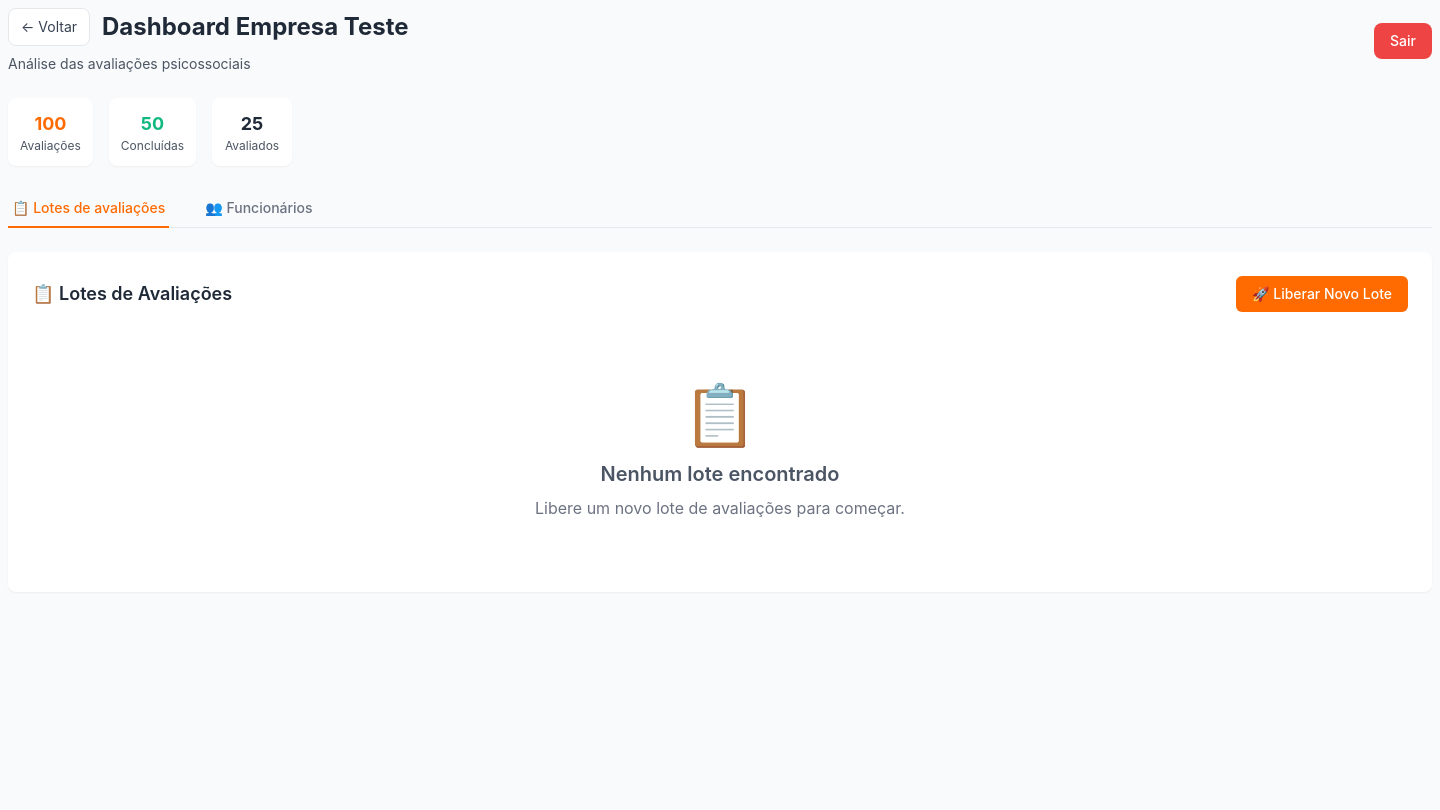
Test: Interface Melhorada - Dashboard Empresa › Interação com Upload e Inserção › deve exibir botão de inserir funcionário
The image size is (1440, 810).
Clicar na aba Funcionários
Click the button "👥 Funcionários": x=259, y=209 [201, 190, 317, 228]
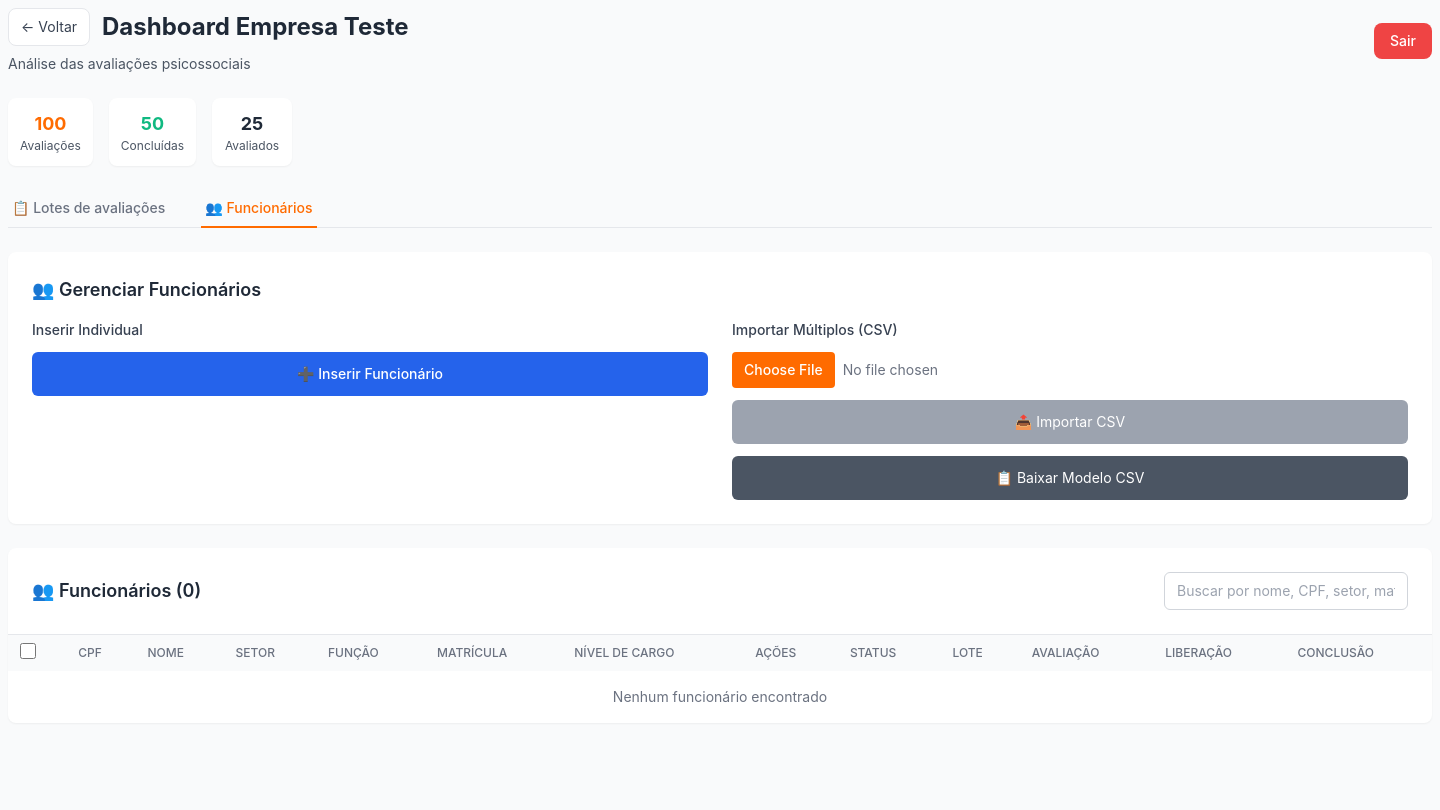
Expected: the button "➕ Inserir Funcionário" is shown, [32, 352, 708, 396]
